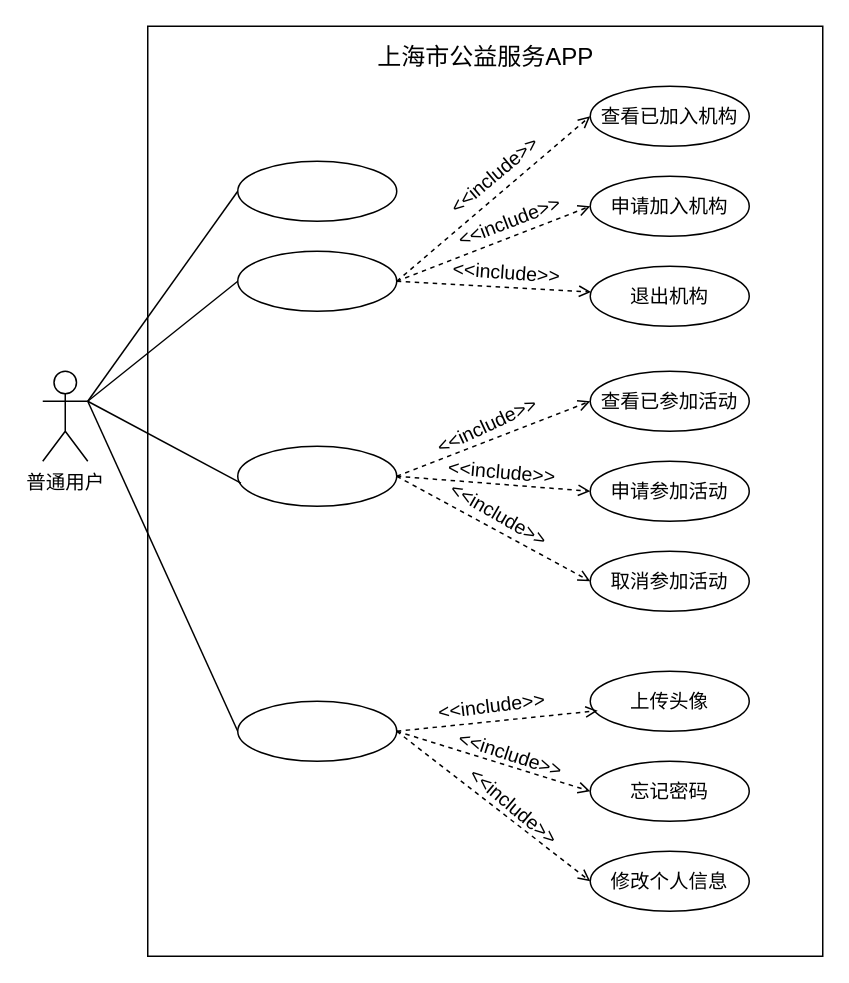
Some shapes in this 849 by 983 pixel diagram are drawn without their labels. The box of each missing label's shape, as (x1, y1, x2, y2) in pixels:
个人信息管理: (236, 700, 397, 761)
机构管理: (236, 250, 397, 311)
注册登录: (236, 160, 397, 221)
活动管理: (236, 445, 397, 506)
